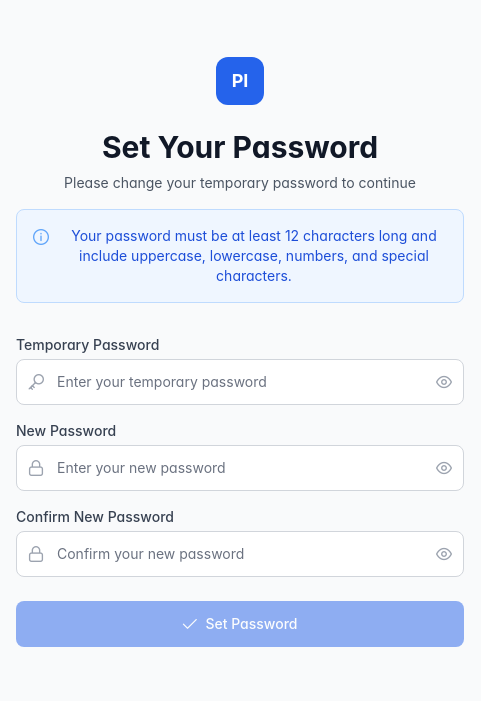
Test: SetPasswordView › Password Strength Indicator › should show password strength indicator when new password is entered
Type "StrongPassword123!@#" into the password field with id "newPassword" at (240, 468), box [16, 445, 464, 491]
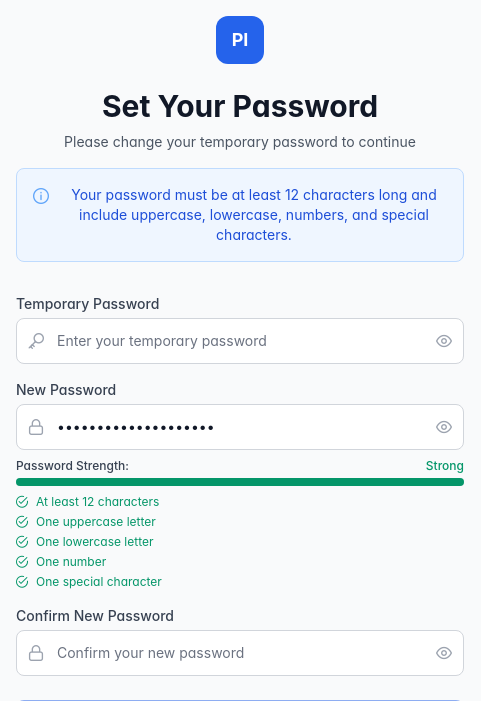
Result: the text "Password Strength:" is shown at [16, 458, 129, 474]
Result: the text "Strong" is shown at [426, 458, 464, 474]
